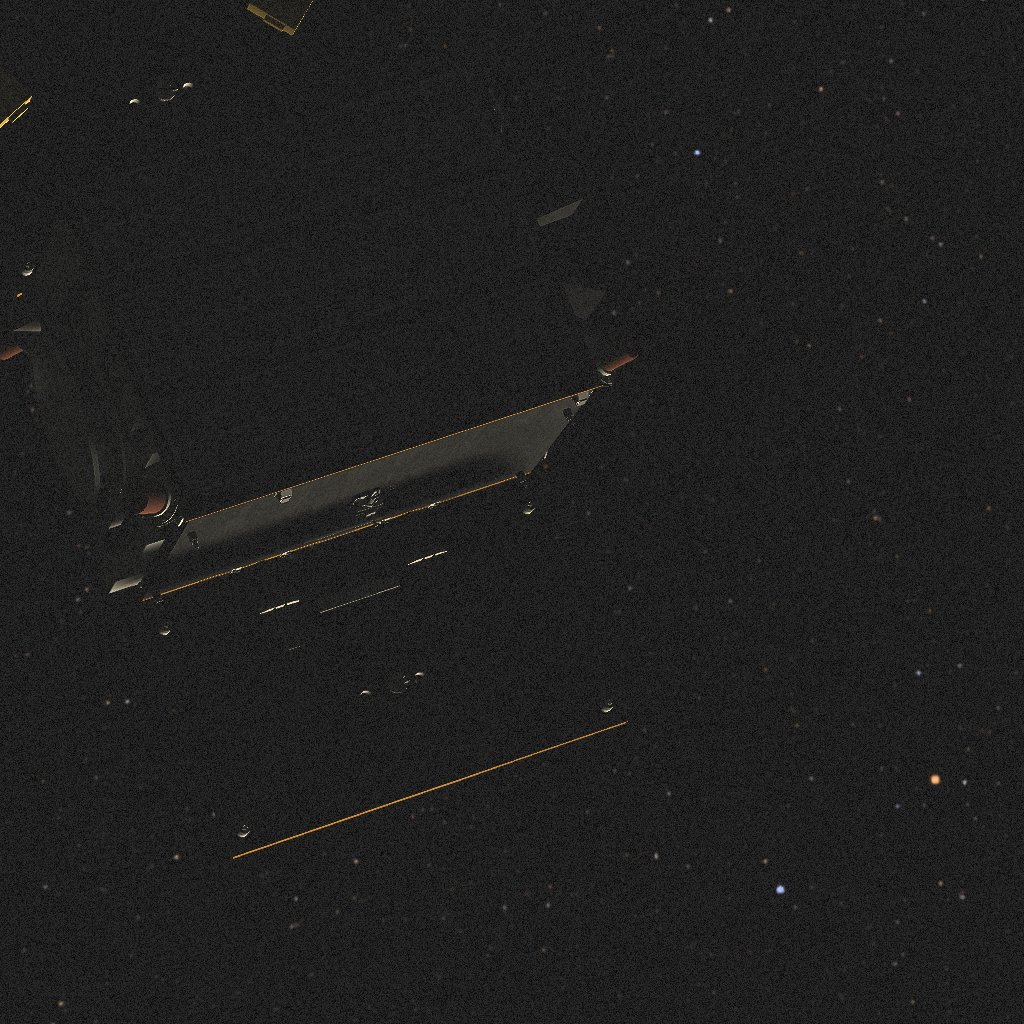proba_2: (0, 0, 638, 859)
